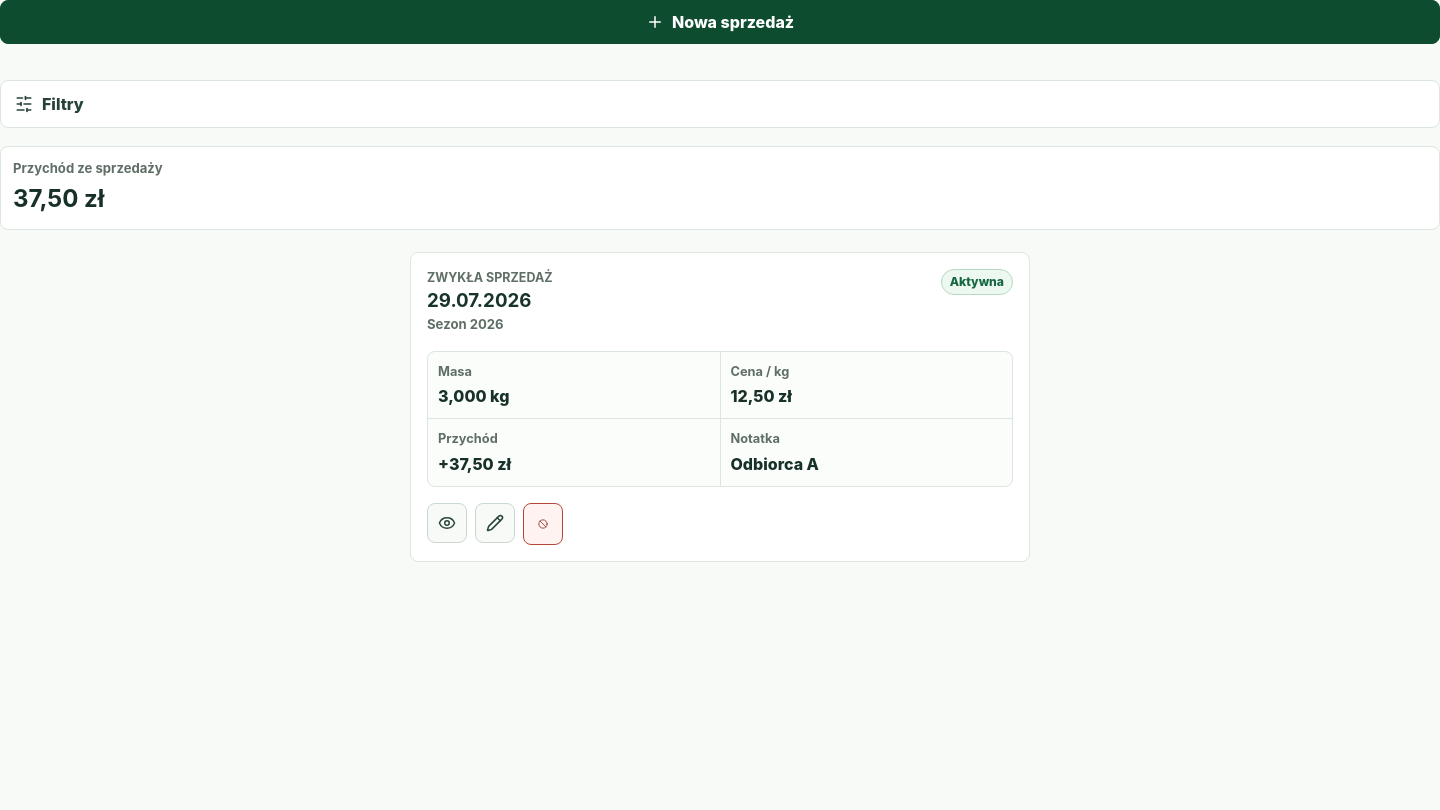
Test: AdminOrdinarySalesPanel › requires a reason and explicit confirmation before cancelling a sale
The width and height of the screenshot is (1440, 810).
Click the button named "Anuluj sprzedaż z 29.07.2026": click(543, 524) [523,502,563,544]
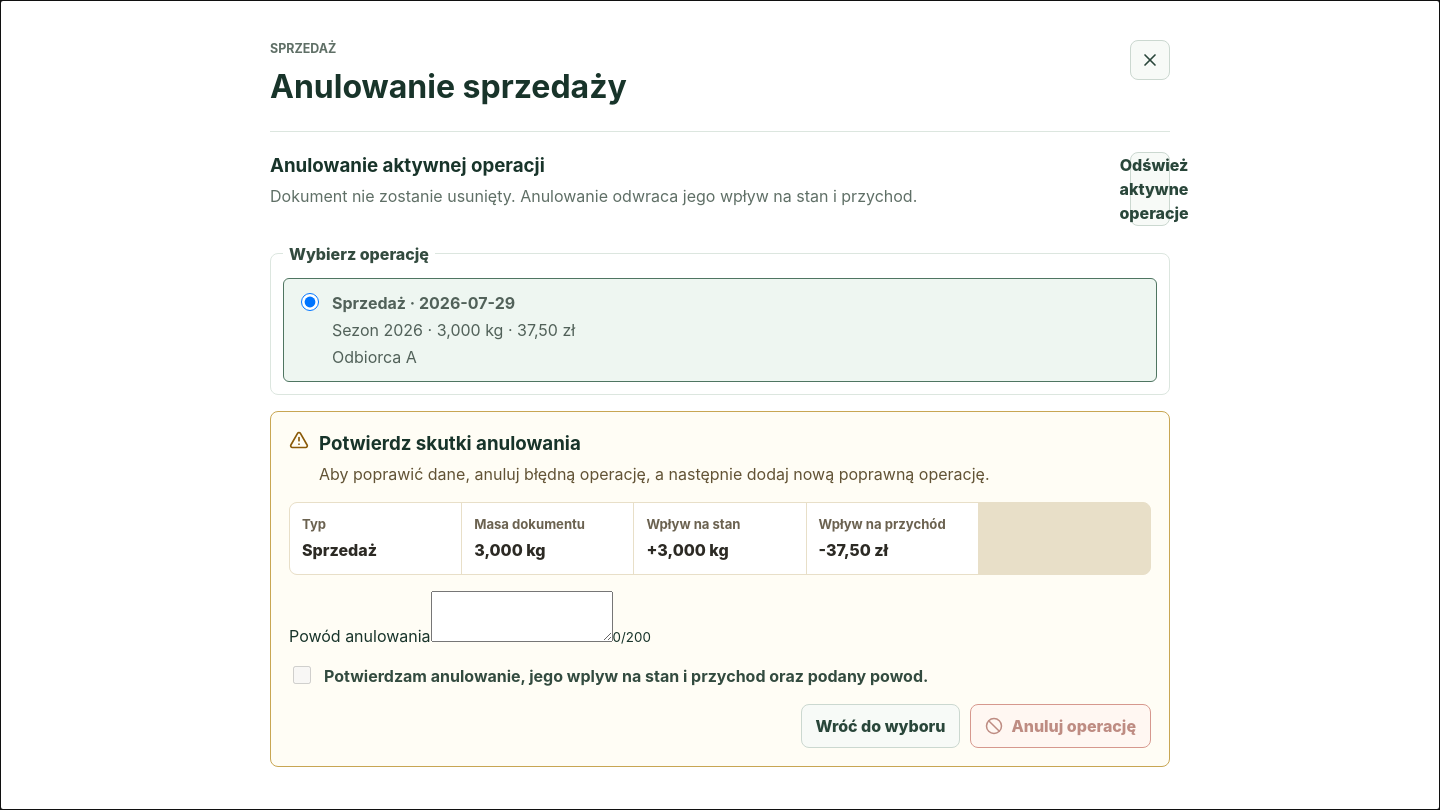
Click the radio button: click(310, 302) [301,293,319,311]
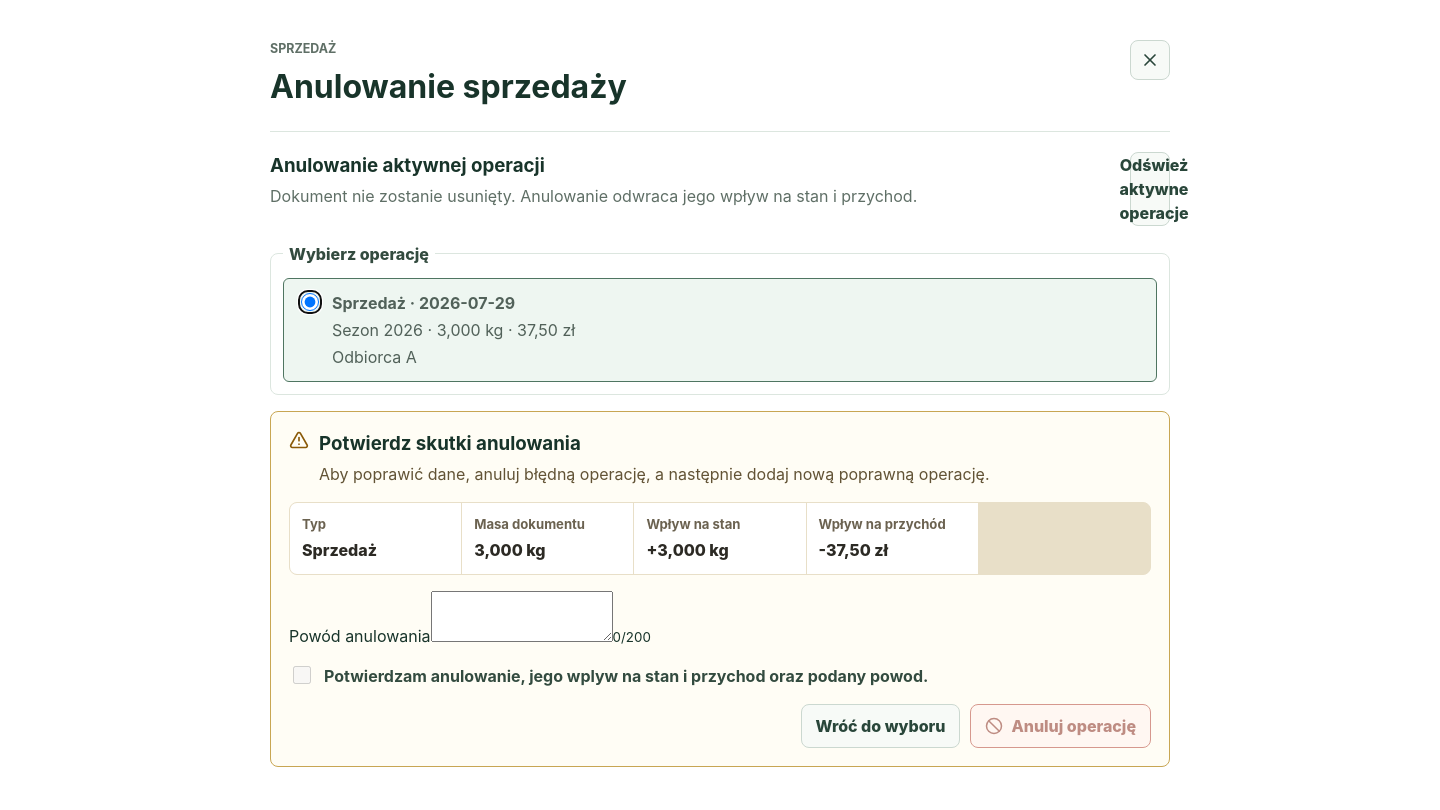
Expected: the checkbox labelled "Potwierdzam anulowanie, jego wplyw na stan i przychod oraz podany powod." is disabled, [293,666,311,684]
Expected: the text "+3,000 kg" is shown, [646,540,729,560]
Expected: the text "-37,50 zł" is shown, [819,540,888,560]
In the text box labelled "Powód anulowania": (522, 617) [431,592,613,642], type "Bledna masa"
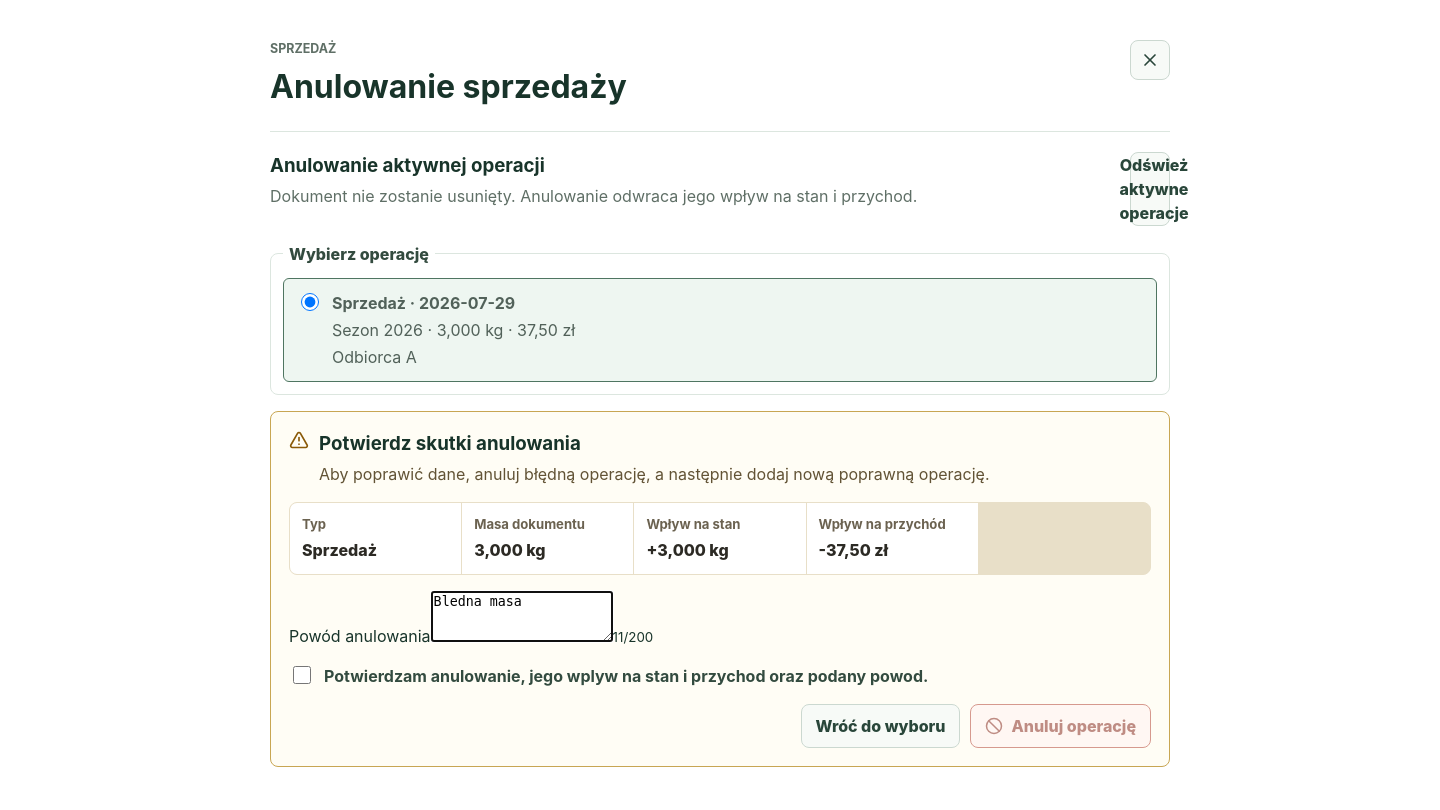
Click the checkbox labelled "Potwierdzam anulowanie, jego wplyw na stan i przychod oraz podany powod.": click(302, 676) [293,666,311,684]
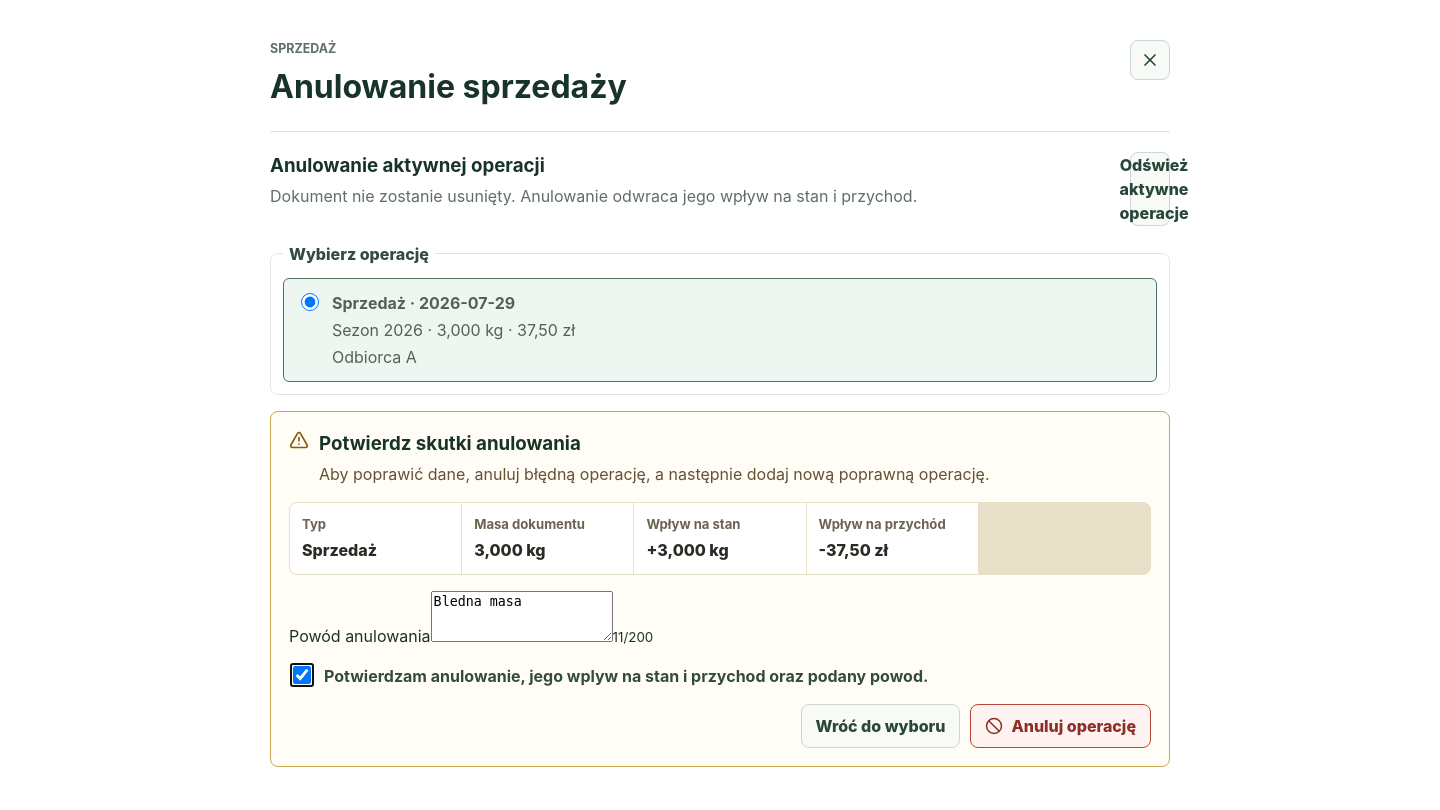
Click the button "Anuluj operację": click(1061, 726) [970,704,1151,748]
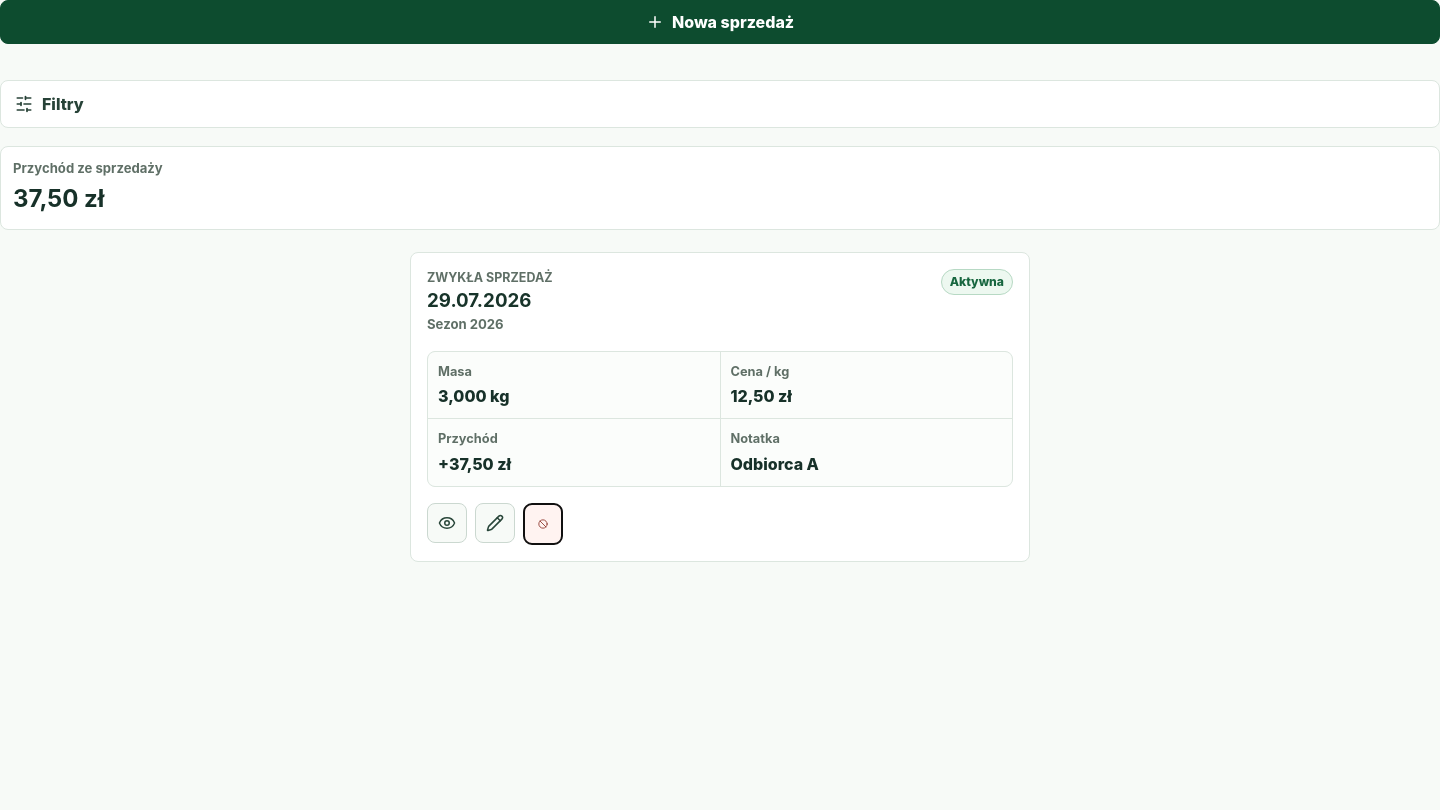
Expected: the heading "Anulowanie sprzedaży" is gone
